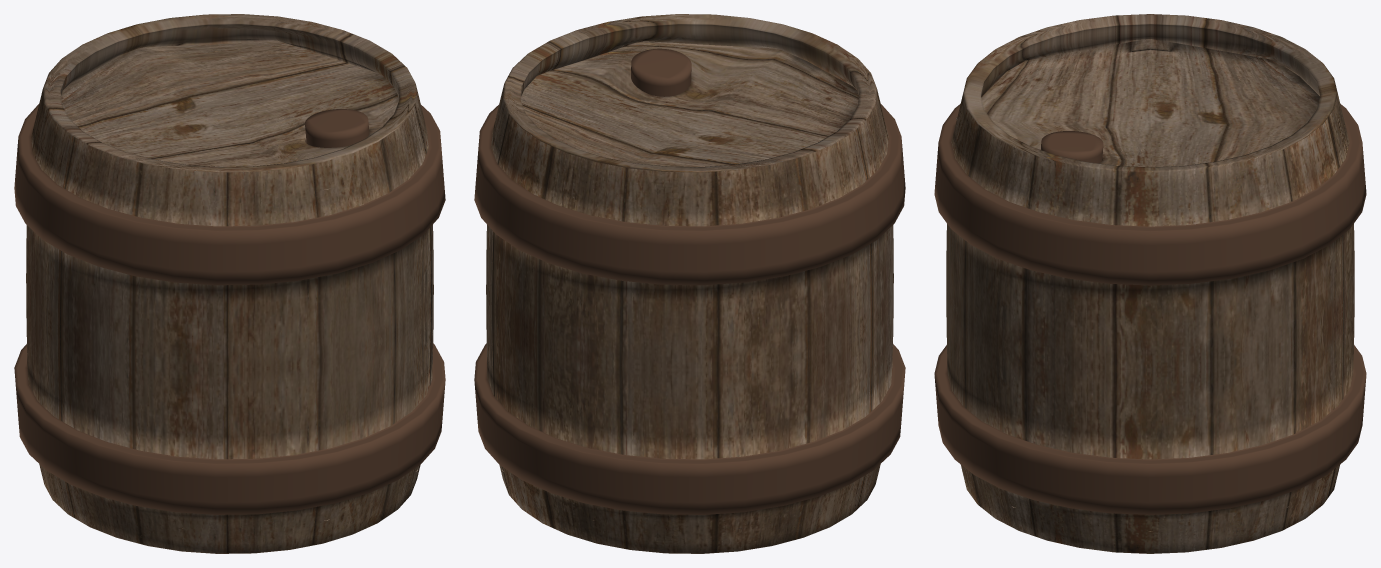
The model's file is barrell.fbx.
The picture shows the model from 3 angles, left to right: view 1: azimuth 30°, elevation 25°; view 2: azimuth 150°, elevation 25°; view 3: azimuth 270°, elevation 25°; orthographic projection.
Parts seen in each view (by area): view 1: Cube.003; view 2: Cube.003; view 3: Cube.003.
Boxes of the visible parts, bbox=[...] form: Cube.003: bbox=[14, 14, 445, 553]; Cube.003: bbox=[474, 14, 905, 553]; Cube.003: bbox=[934, 14, 1366, 553].
Bounding box in the file's own units: 170 × 166 × 170.
